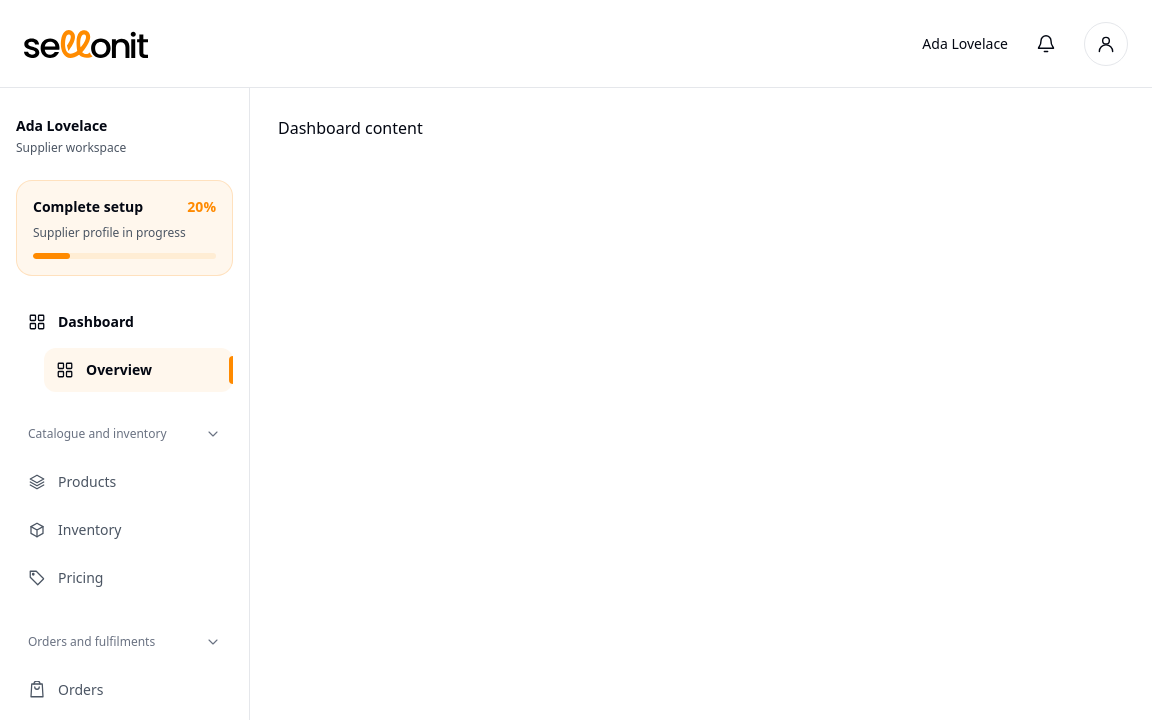
Test case: supplier workspace shell › collapses and expands navigation groups with real expanded state
expect the link "Products" is shown: met, box [28,472,116,491]
What coordinates should you click on to do the following:
click the button "Catalogue and inventory"
I would click on:
 (124, 434)
Its box is [16,412,233,456].
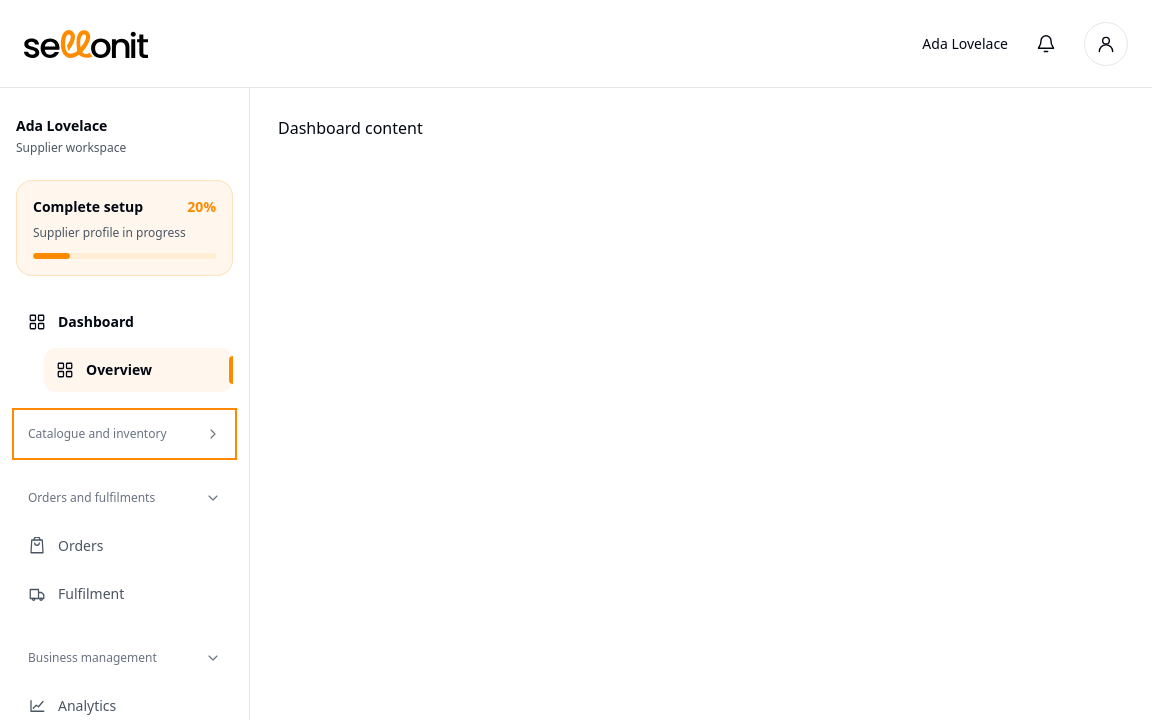
expect the button "Catalogue and inventory" is collapsed: met
expect the link "Products" is gone: met
What coordinates should you click on to do the following:
click the button "Catalogue and inventory"
I would click on:
 (124, 434)
Its box is [16,412,233,456].
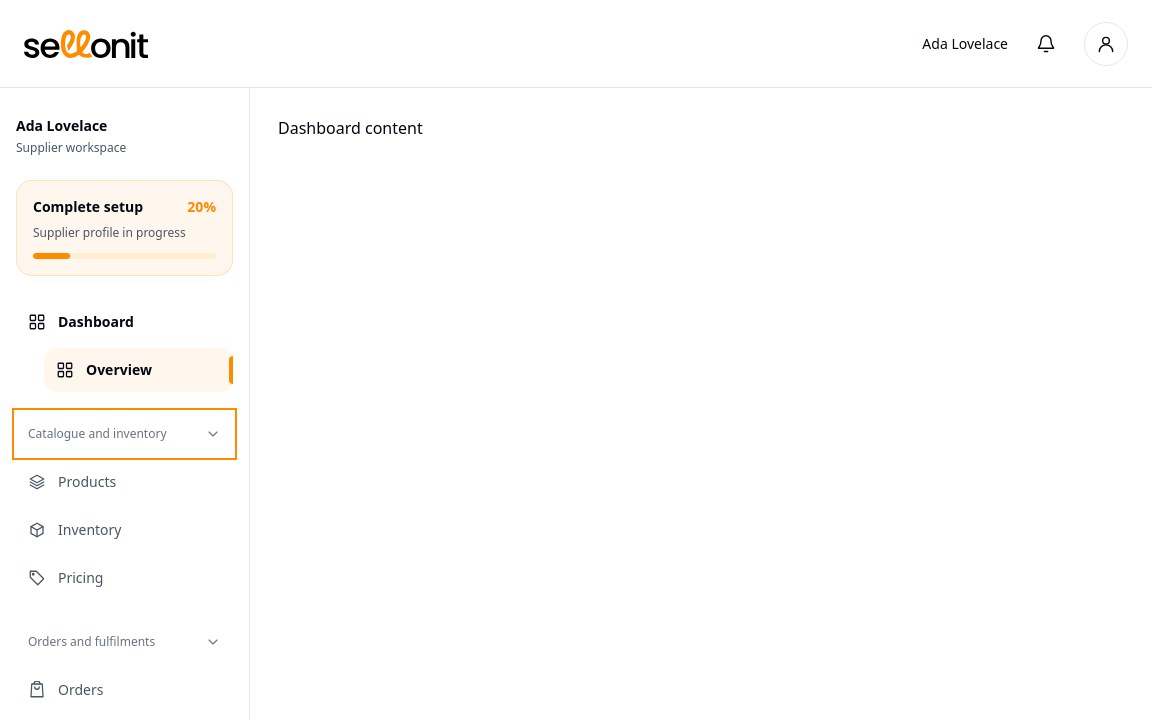
expect the link "Products" is shown: met, box [28,472,116,491]
